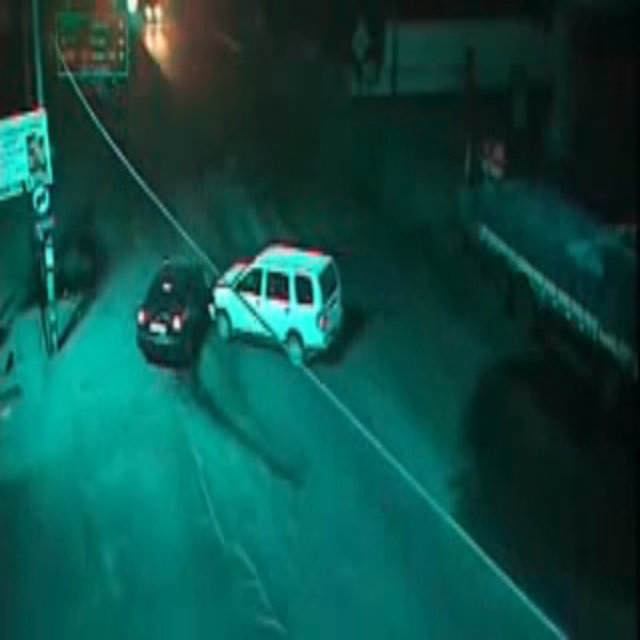acc: (116, 237, 348, 377)
